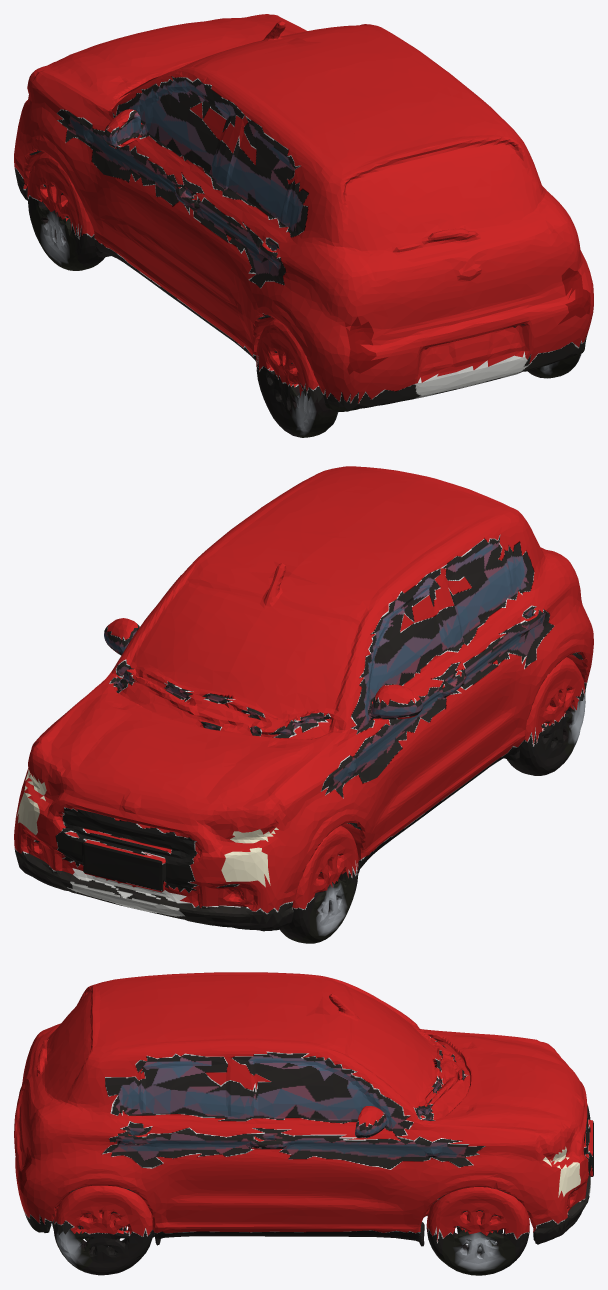
File: pride.glb
The picture shows the model from 3 angles, top to bottom: view 1: azimuth 30°, elevation 25°; view 2: azimuth 150°, elevation 25°; view 3: azimuth 270°, elevation 25°; orthographic projection. The views are drawn at different scales.
Parts seen in each view (by area): view 1: body, taillights_rear, wheel_0, wheel_1, wheel_3; view 2: body, headlights_front, wheel_0, wheel_1; view 3: body, wheel_2, wheel_3, headlights_front.
Part boxes in pixels (<box>): body: <box>14,14,593,437</box>; taillights_rear: <box>344,267,590,374</box>; wheel_0: <box>31,200,103,270</box>; wheel_1: <box>287,387,364,437</box>; wheel_3: <box>536,345,585,378</box>; body: <box>14,466,593,940</box>; headlights_front: <box>16,769,278,887</box>; wheel_0: <box>285,871,355,943</box>; wheel_1: <box>563,691,585,757</box>; body: <box>14,972,593,1275</box>; wheel_2: <box>439,1227,515,1275</box>; wheel_3: <box>31,1225,92,1271</box>; headlights_front: <box>543,1146,580,1197</box>.
Size of the model in its own units: 88.4 by 75.35 by 172.
Materials: 7 (1 with a texture image).
